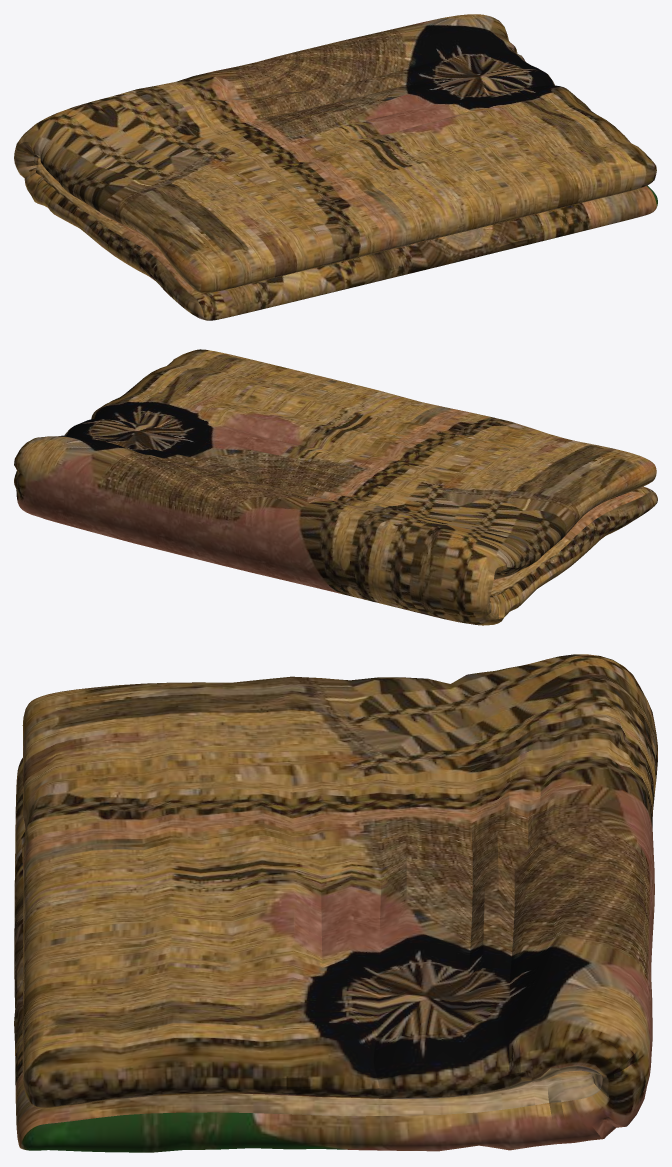
Rendered from xi_oam_bed.gltf.
3 renders of one model, top to bottom at view 1: azimuth 30°, elevation 25°; view 2: azimuth 150°, elevation 25°; view 3: azimuth 270°, elevation 25°, orthographic. The views are drawn at different scales.
Visible parts, largest first — view 1: xi_oam_bed; view 2: xi_oam_bed; view 3: xi_oam_bed.
Boxes of the visible parts, bbox=[...] form: xi_oam_bed: bbox=[14, 14, 657, 320]; xi_oam_bed: bbox=[14, 349, 657, 625]; xi_oam_bed: bbox=[14, 654, 657, 1152].
Size of the model in its own units: 1.51 by 0.2602 by 1.03.
1 material, 1 textured.
